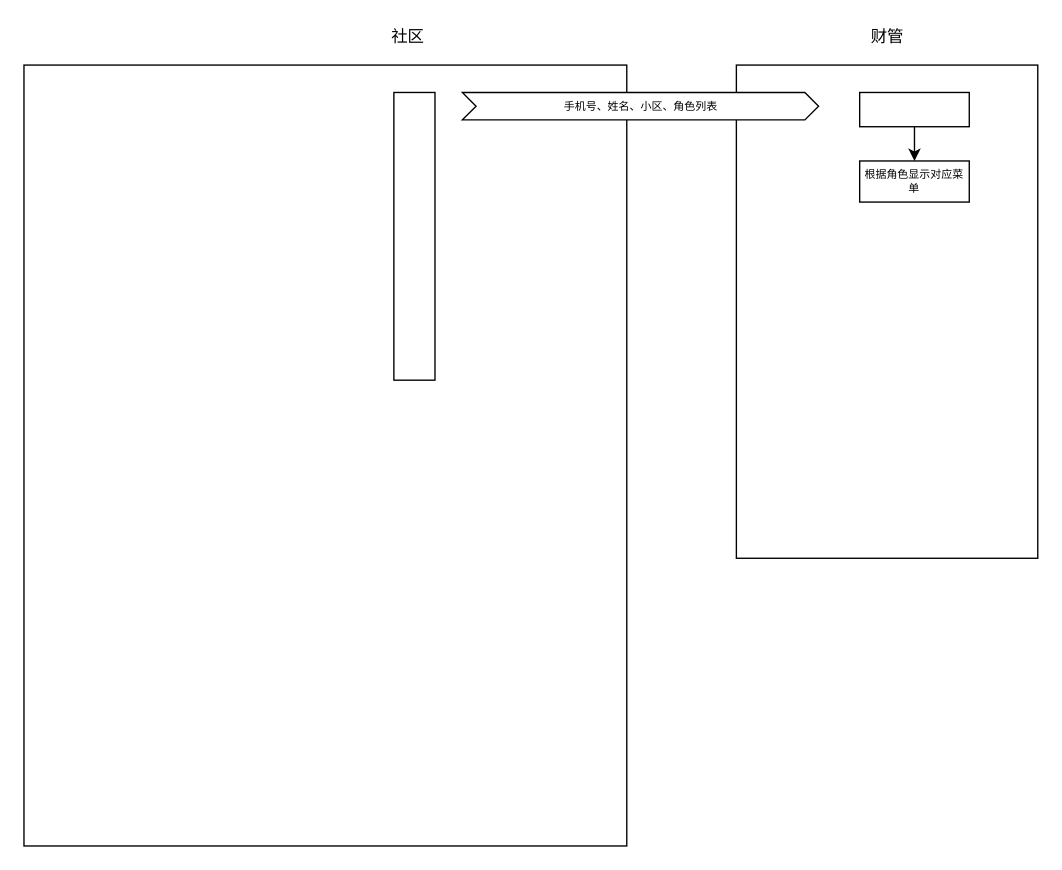
Image size: 1062x870. Some labels were removed from this diagram. Here are the shapes that lost their labels. From the top down, the centre of each, then its label:
the point at 913,109: 登录
the point at 414,235: 点击进入财管
